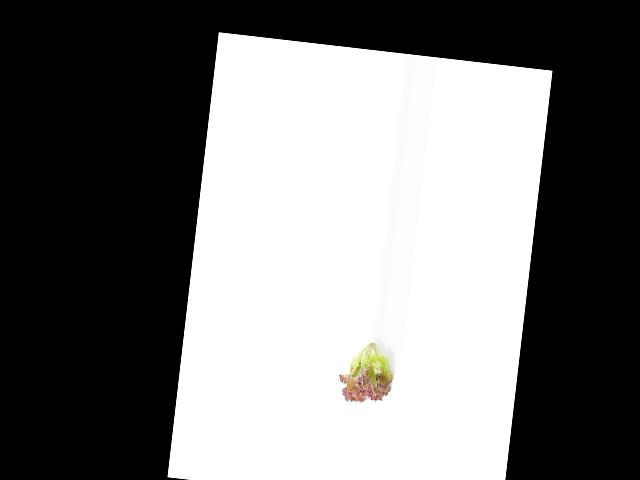lettuce: (337, 331, 398, 409)
